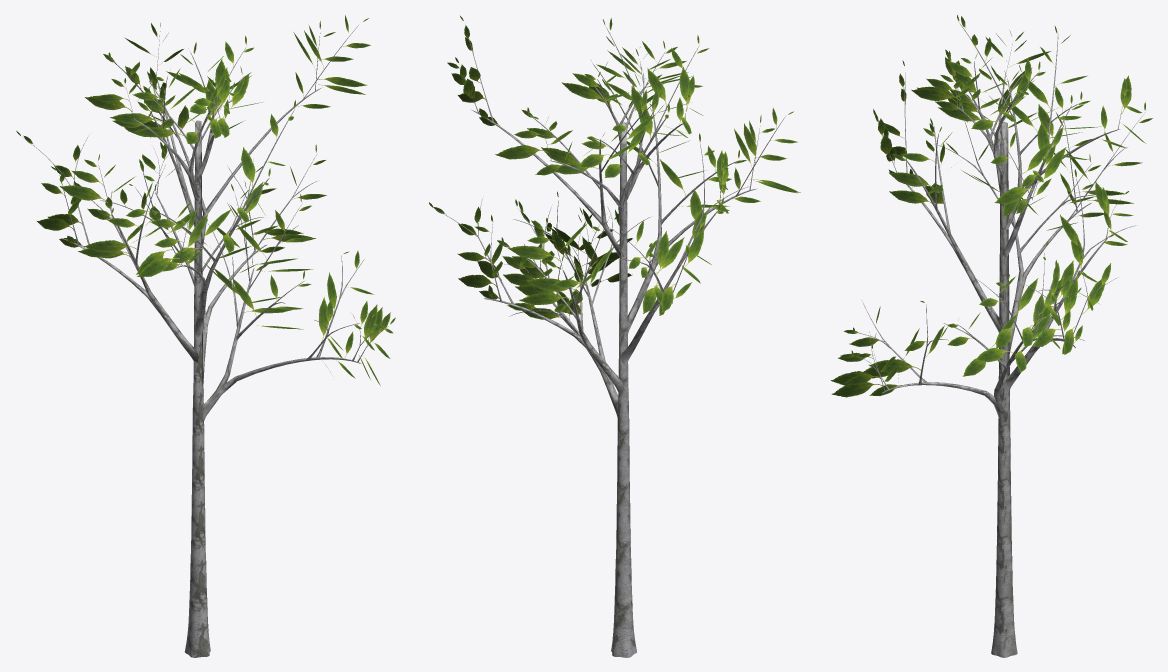
Rendered from birch.fbx.
3 renders of one model, left to right at view 1: azimuth 30°, elevation 25°; view 2: azimuth 150°, elevation 25°; view 3: azimuth 270°, elevation 25°, orthographic.
Parts seen in each view (by area): view 1: leaf birch_1, bark11_0; view 2: leaf birch_1, bark11_0; view 3: leaf birch_1, bark11_0.
Part boxes in pixels (x1=…): leaf birch_1: x1=16, y1=15, x2=395, y2=385; bark11_0: x1=22, y1=25, x2=388, y2=657; leaf birch_1: x1=429, y1=16, x2=800, y2=319; bark11_0: x1=435, y1=25, x2=785, y2=657; leaf birch_1: x1=830, y1=15, x2=1152, y2=397; bark11_0: x1=854, y1=22, x2=1145, y2=657.
Bounding box in the file's own units: 289 × 583 × 278.
Materials: 2 (2 with a texture image).
